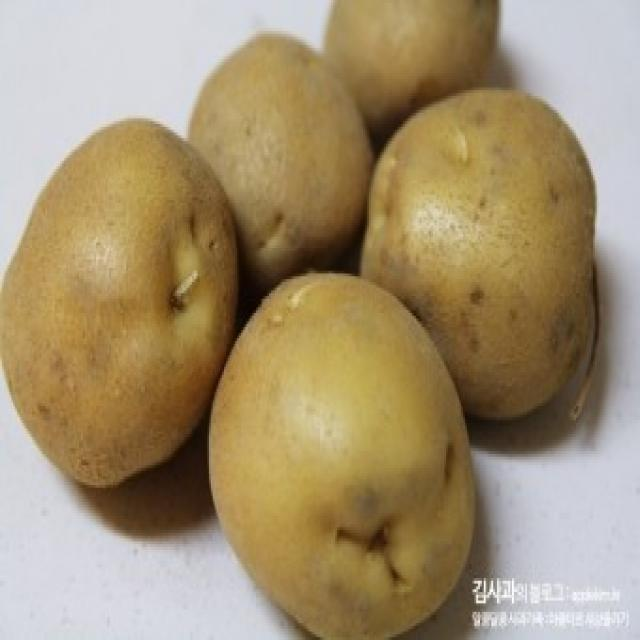potato: (208, 262, 476, 640), (1, 108, 242, 488), (356, 84, 612, 428), (176, 32, 393, 309), (319, 0, 507, 124)
